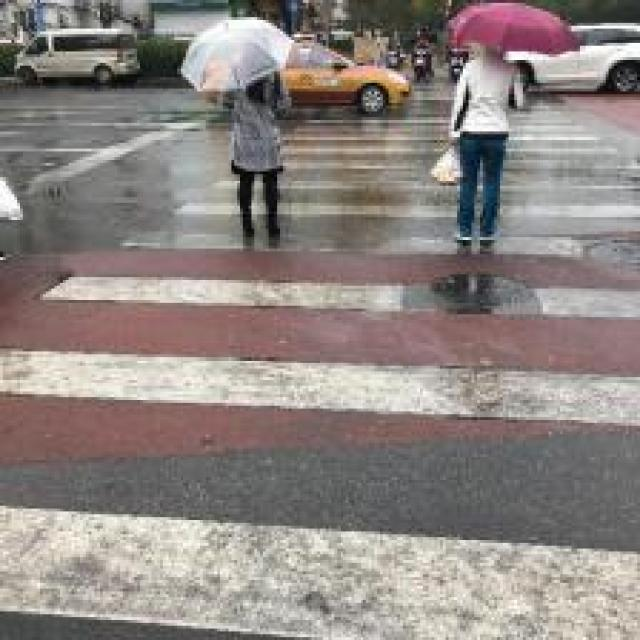walk-crossing: (141, 228, 636, 626)
